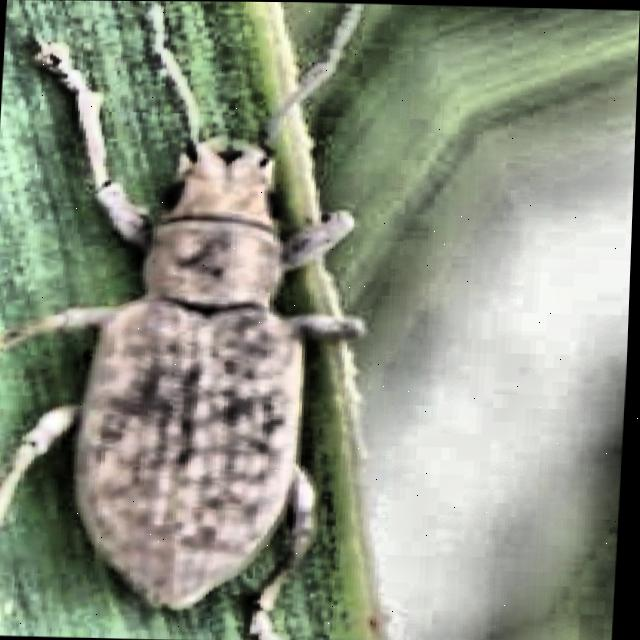Stink bug: (0, 0, 402, 633)
